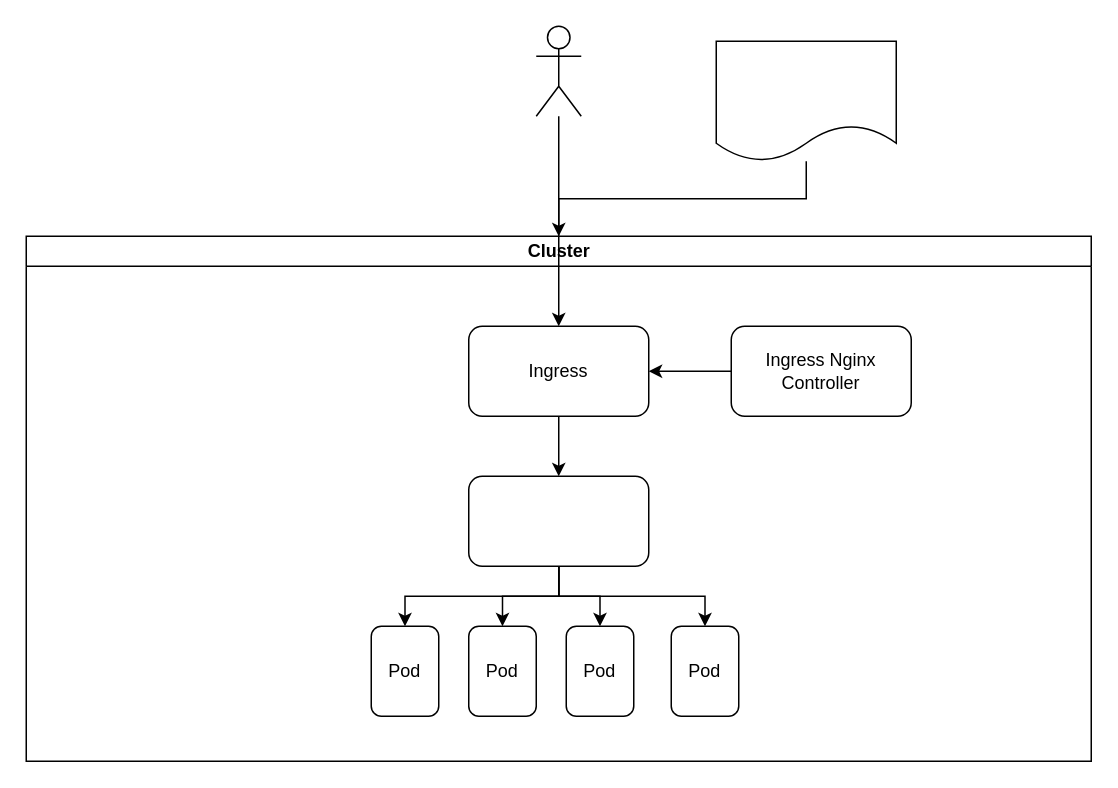
Some shapes in this 1118 by 788 pixel diagram are drawn without their labels. The shapes that lost their labels are listed below. From the top down, each one's centre as x and y in pixels, then its label:
At point 558,70: "Actor".
At point 805,100: "LoadBalancer (lokal aber NodePort)".
At point 558,520: "Service".
